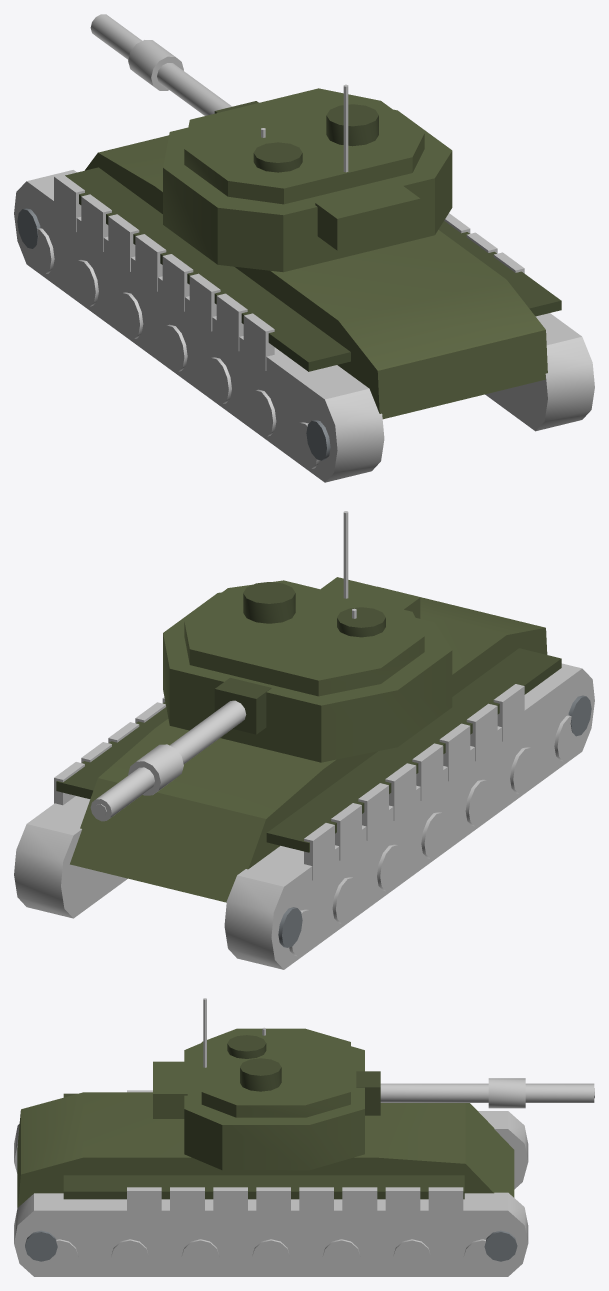
3 views of the same model, one above another, from view 1: azimuth 30°, elevation 25°; view 2: azimuth 150°, elevation 25°; view 3: azimuth 270°, elevation 25° (orthographic). The views are drawn at different scales.
Parts seen in each view (by area): view 1: model; view 2: model; view 3: model.
Part boxes in pixels (x1=…): model: x1=14, y1=14, x2=594, y2=482; model: x1=14, y1=511, x2=594, y2=969; model: x1=14, y1=998, x2=594, y2=1276.
Size of the model in its own units: 3.49 by 3.62 by 8.36.
